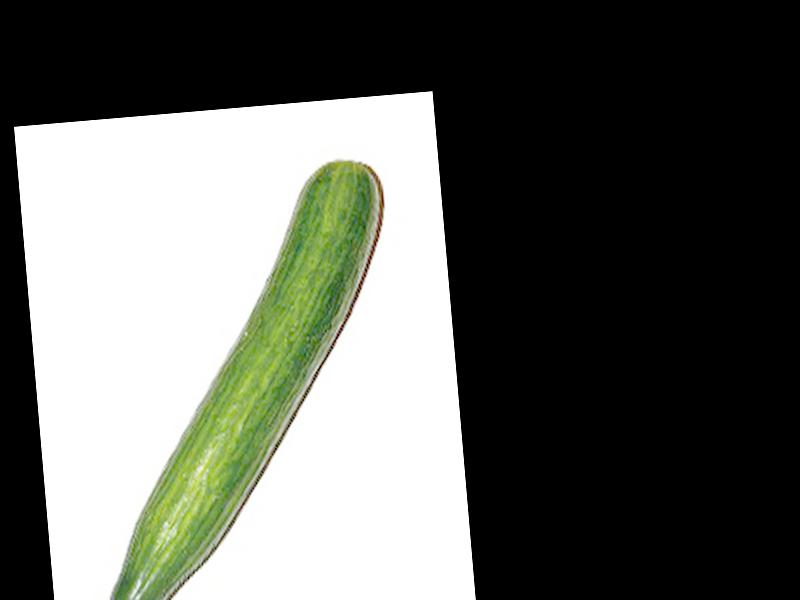Cucumber: (74, 157, 416, 600)
